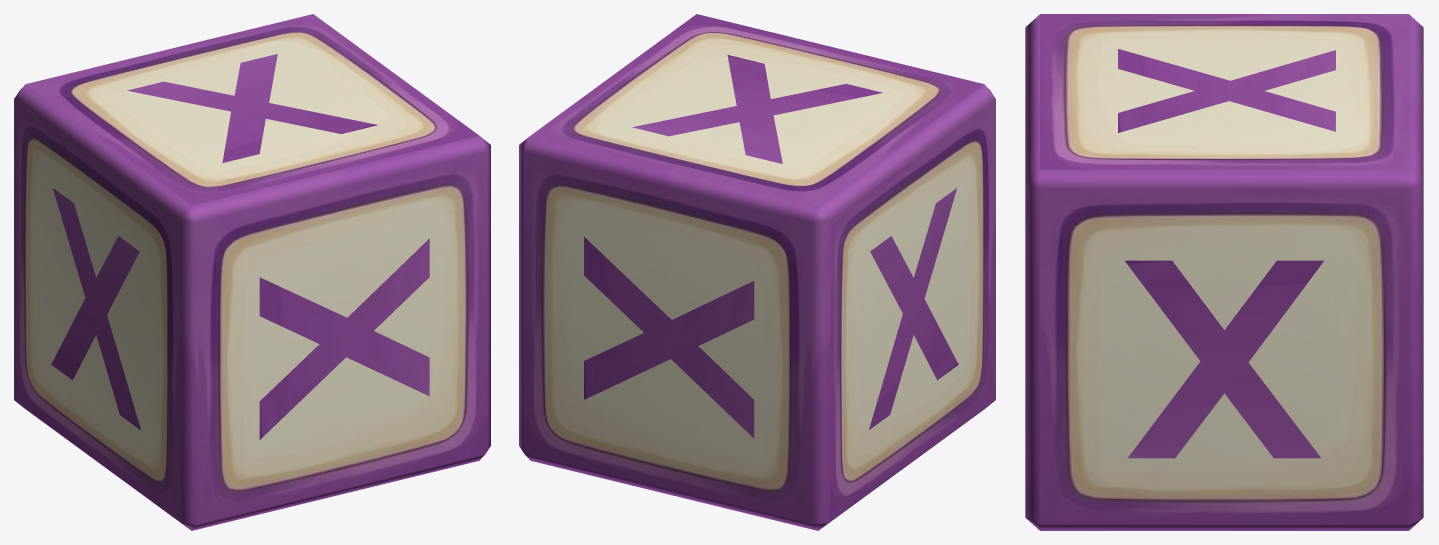
The model's file is CubeX.glb.
3 views of the same model, side by side, from view 1: azimuth 30°, elevation 25°; view 2: azimuth 150°, elevation 25°; view 3: azimuth 270°, elevation 25° (orthographic). The views are drawn at different scales.
Parts seen in each view (by area): view 1: CubeX; view 2: CubeX; view 3: CubeX.
Boxes of the visible parts, x1,y1,x2,y2 form: CubeX: (14, 14, 490, 530); CubeX: (519, 14, 995, 530); CubeX: (1025, 14, 1423, 530).
Size of what is drawn, in the model's own units: 0.513 by 0.513 by 0.513.
1 material, 1 textured.
